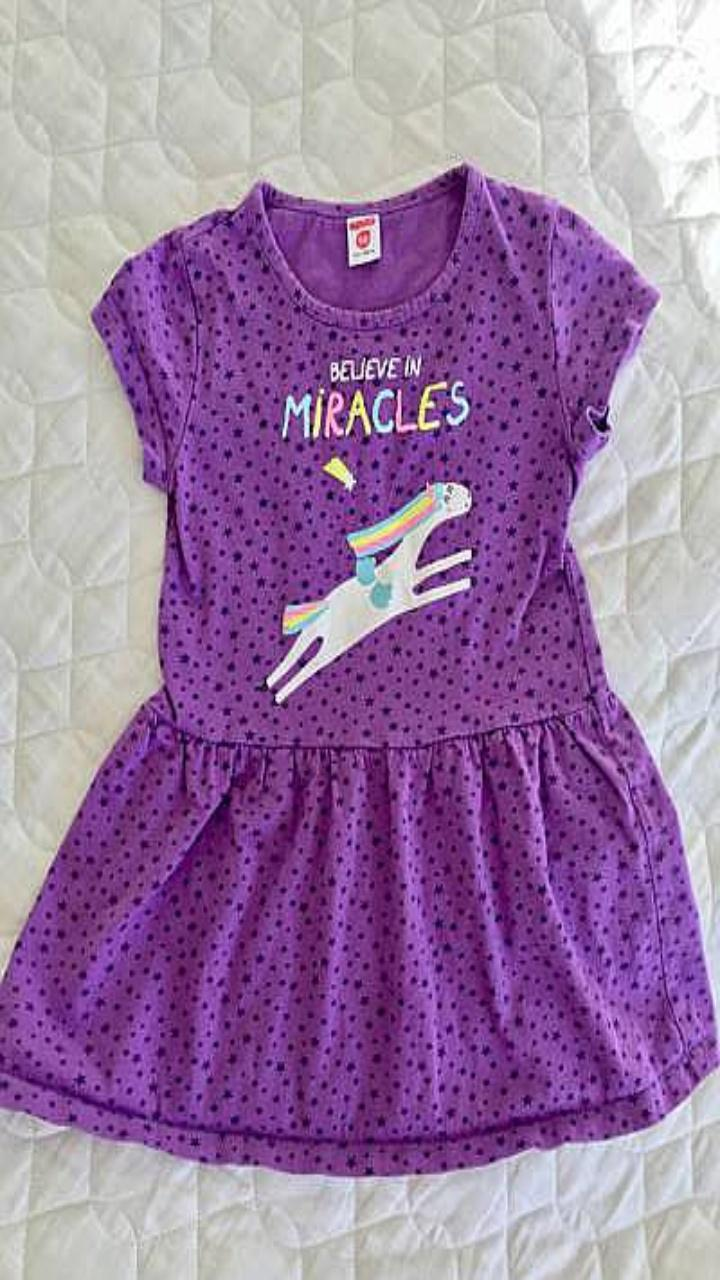Dresses: (0, 163, 719, 1174)
